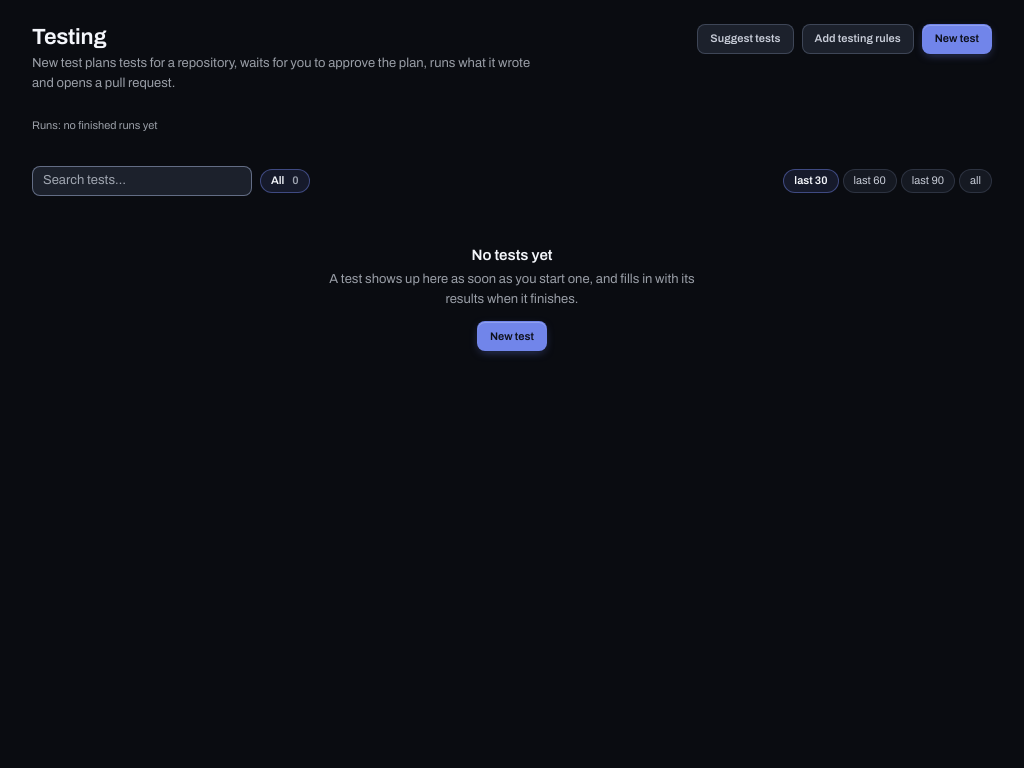
Test case: a project's tests live on Testing (?project=); the shell address is retired (X1) › the Testing landing's `?project=` preselects THIS project in a new test's launch panel
The image size is (1024, 768).
expect the element with test id "campaigns-page" is shown: met, box [0,0,1023,447]
What coordinates should you click on to do the following:
click the button with test id "testing-campaign-open"
I would click on:
 (957, 39)
Its box is [922,24,992,54].
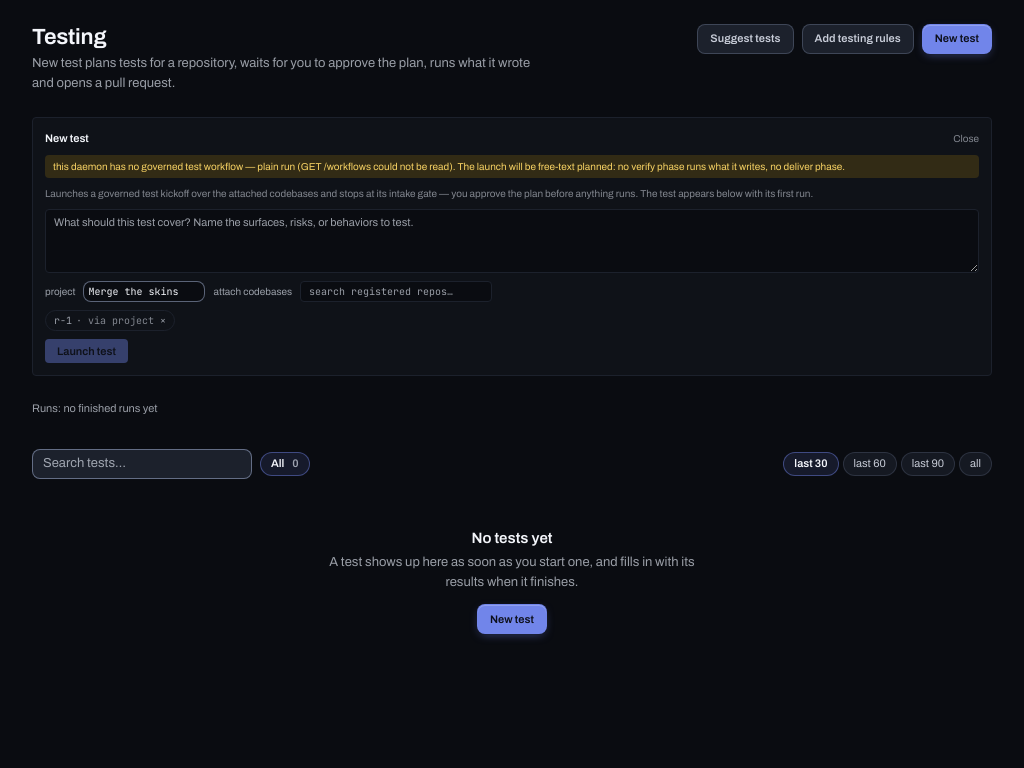
expect the dropdown with test id "testing-launch-project" shows "Merge the skins": met, box [84,281,206,302]
